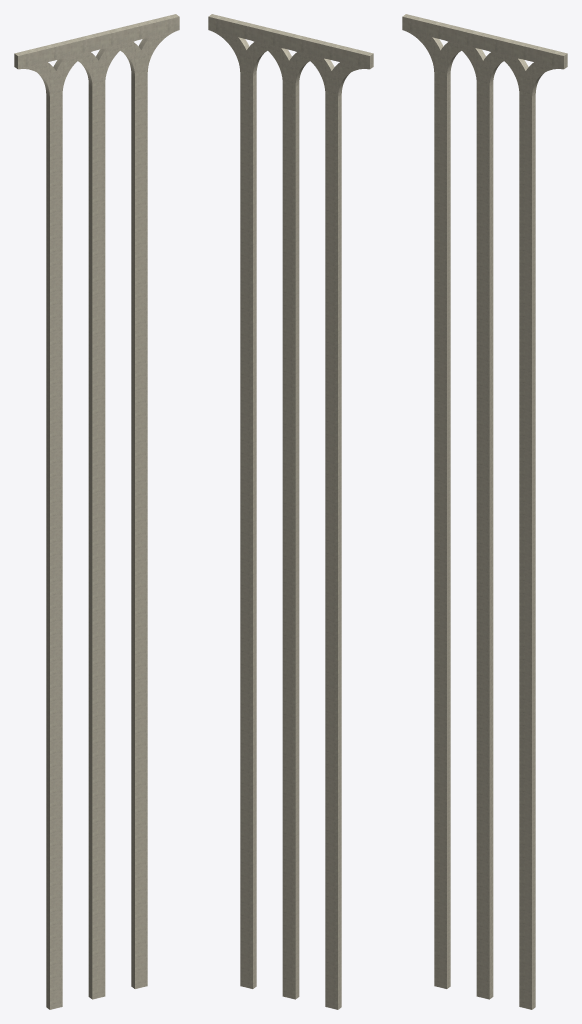
File: BridgePillar4-6L.FBX
The picture shows the model from 3 angles, left to right: view 1: azimuth 30°, elevation 25°; view 2: azimuth 150°, elevation 25°; view 3: azimuth 330°, elevation 25°; orthographic projection.
Parts seen in each view (by area): view 1: BridgePillar4-6L; view 2: BridgePillar4-6L; view 3: BridgePillar4-6L.
Part boxes in pixels (x1,y1,x2,y2): BridgePillar4-6L: (14,14,179,1009); BridgePillar4-6L: (208,14,373,1009); BridgePillar4-6L: (402,14,567,1009).
Size of the model in its own units: 38 by 216 by 1.5.
